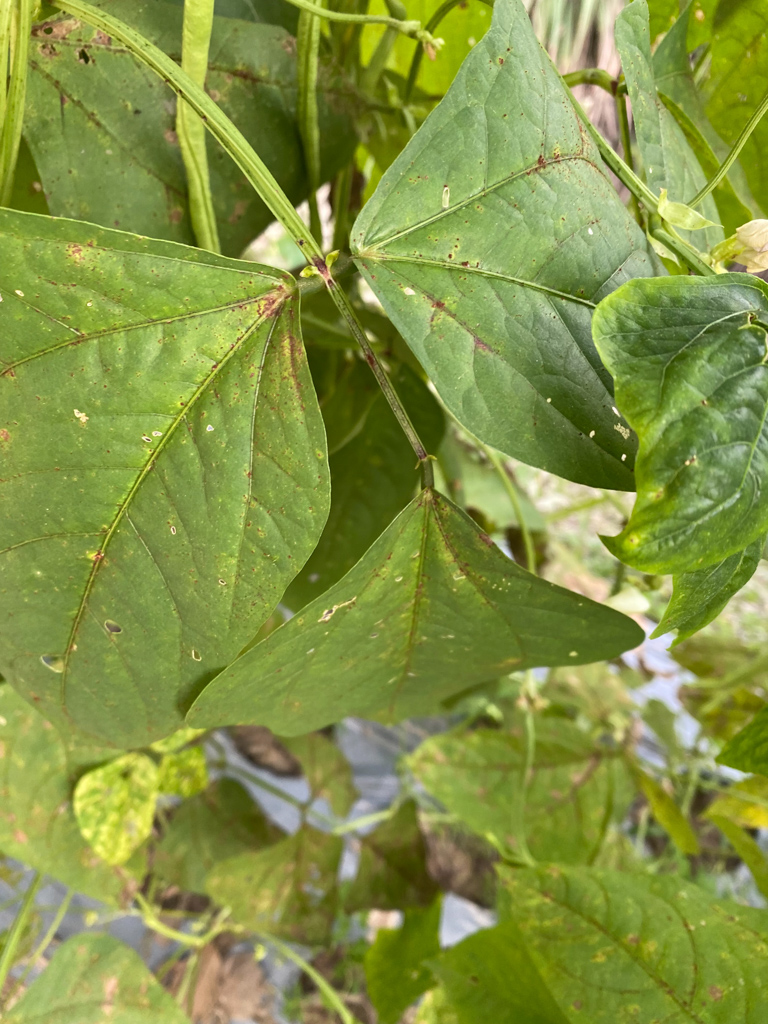Canker: (206, 274, 322, 473), (398, 204, 517, 372), (598, 910, 754, 1005), (29, 4, 159, 83), (512, 104, 595, 216), (23, 227, 124, 302)
